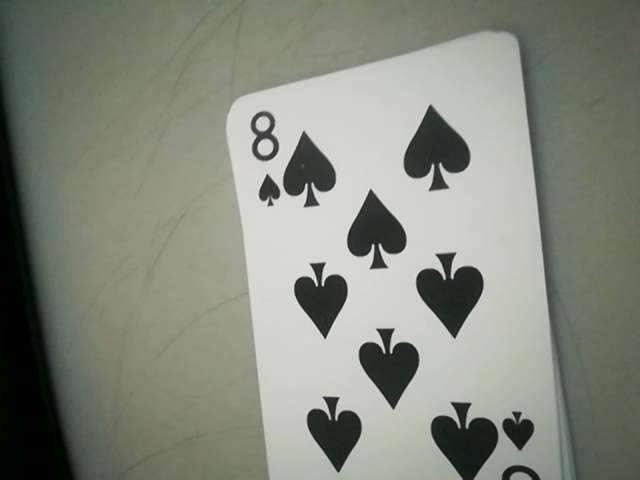ht 8: (240, 101, 294, 218)
